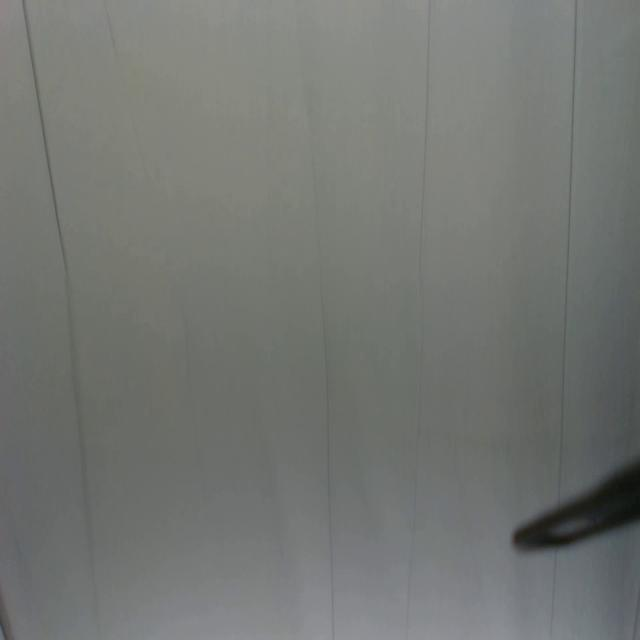crease: (300, 76, 341, 638), (401, 0, 437, 634), (550, 0, 581, 498), (16, 0, 68, 274), (542, 549, 567, 640), (100, 0, 122, 64)
